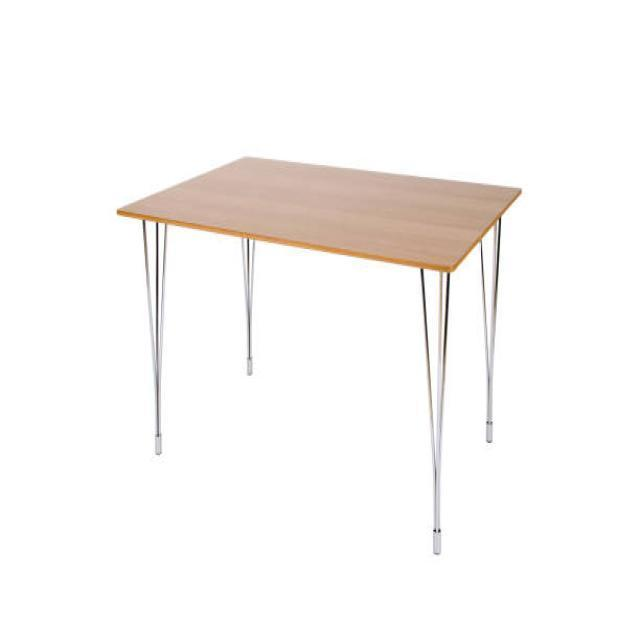table: (115, 152, 522, 554)
